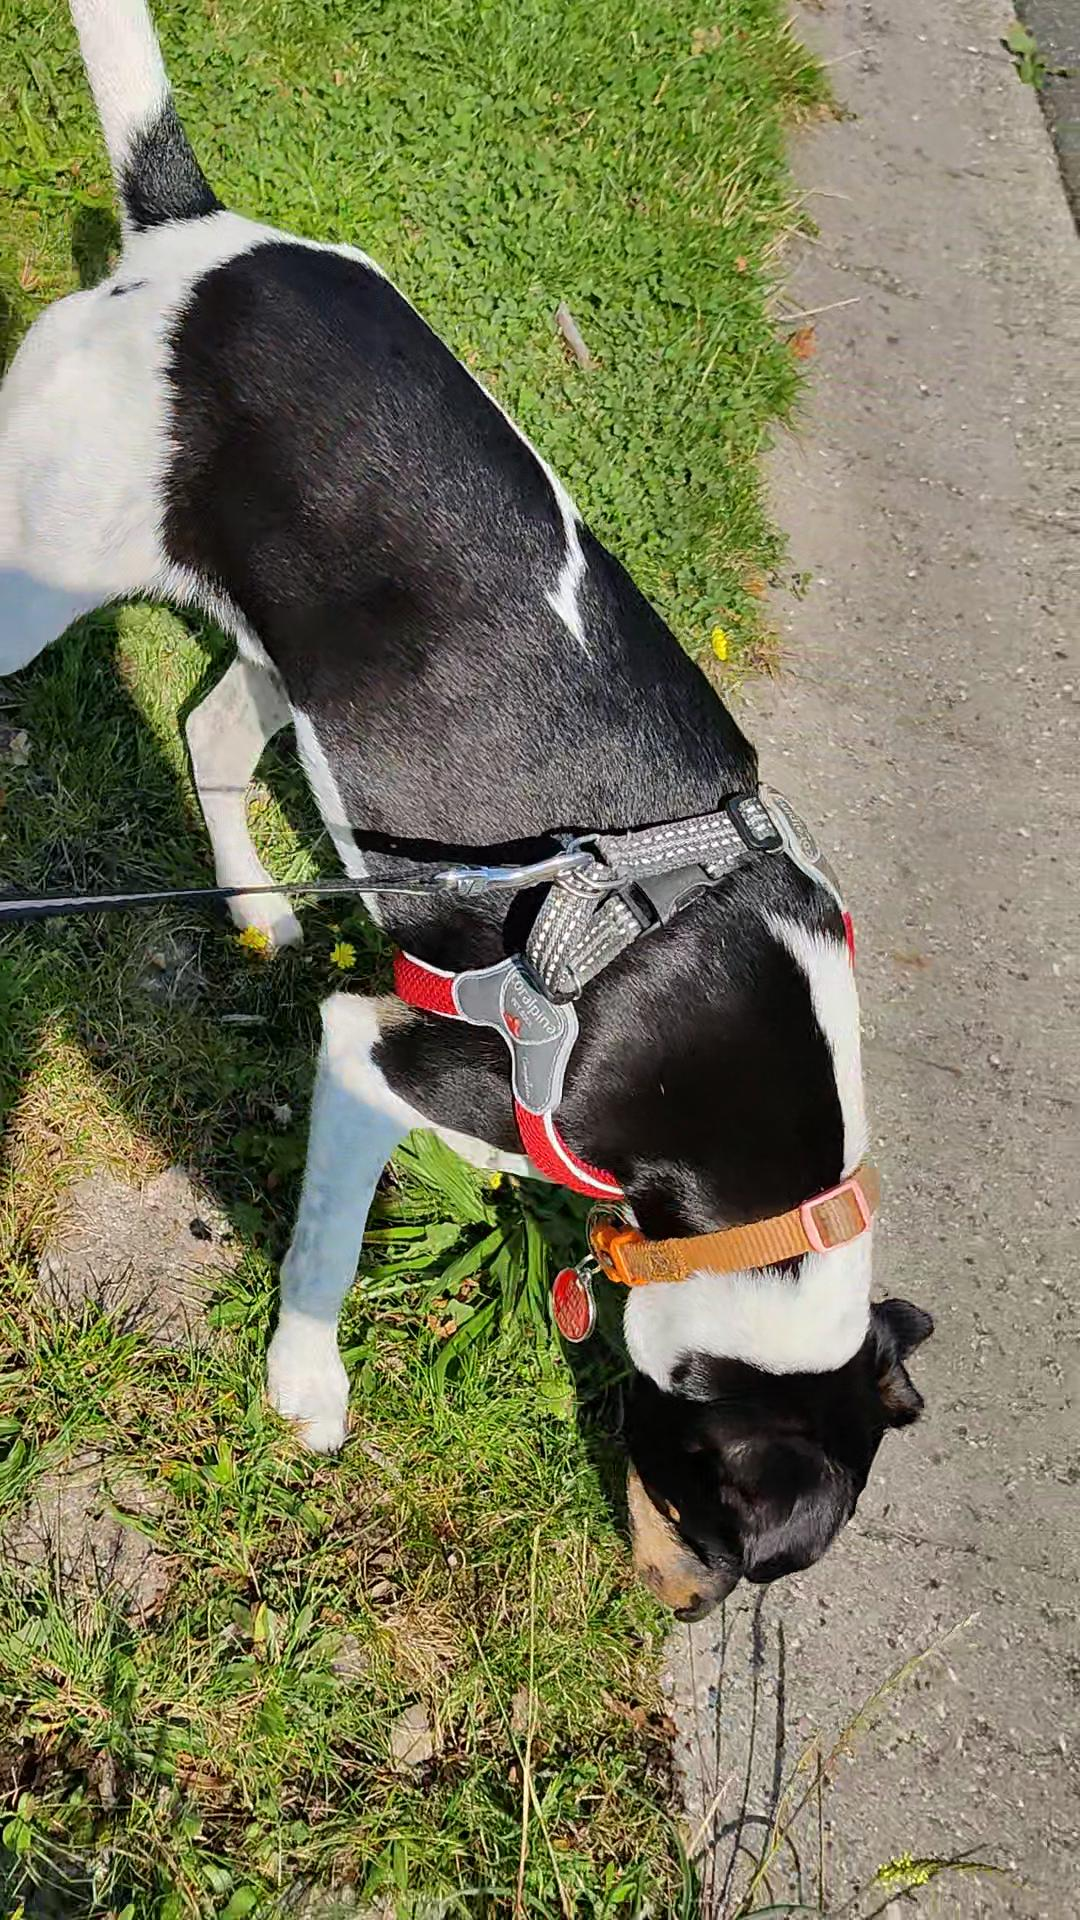Dog: (0, 0, 949, 1659)
